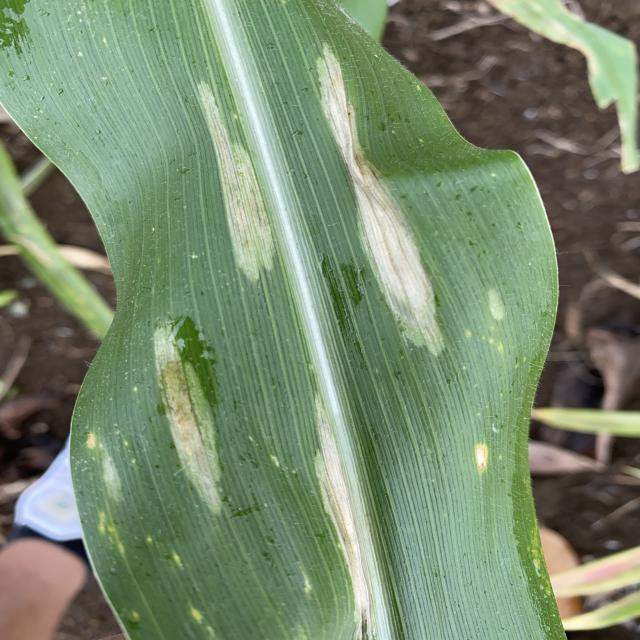Corn_Leaf_Blight: (68, 42, 557, 640)
